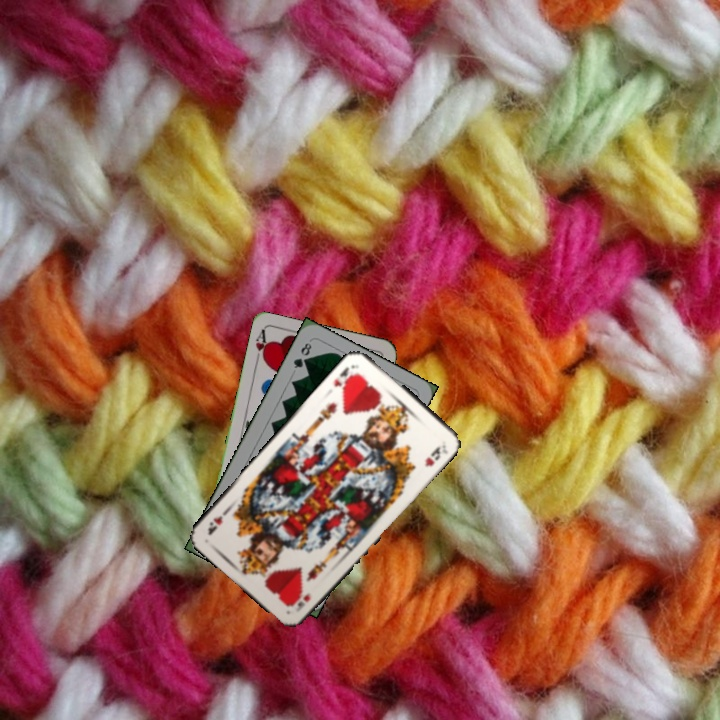G8: (289, 339, 314, 371)
HA: (251, 326, 271, 367)
HK: (330, 361, 360, 391), (292, 589, 313, 614)
